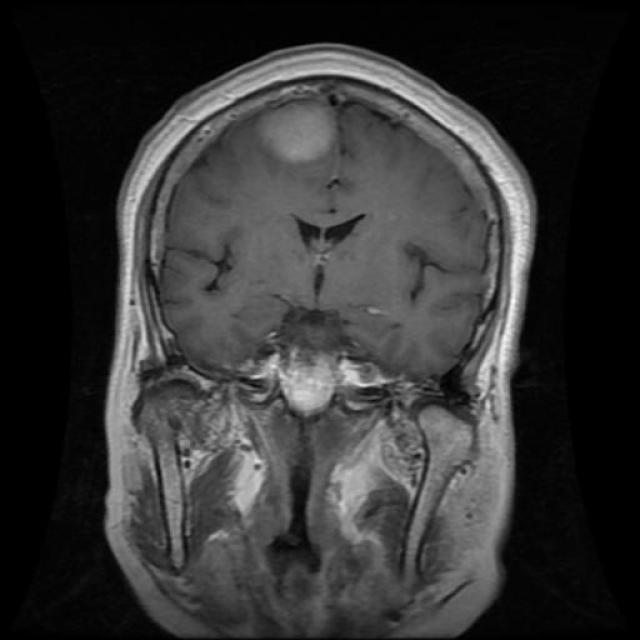meningioma: (260, 102, 335, 162)
